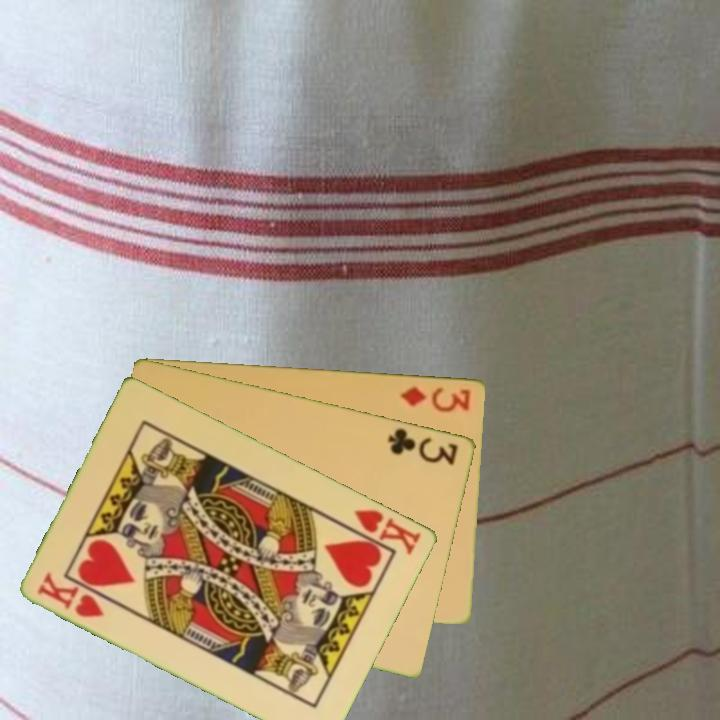3c: (384, 424, 461, 468)
3d: (397, 382, 474, 414)
Kh: (340, 505, 425, 558), (34, 568, 108, 621)
